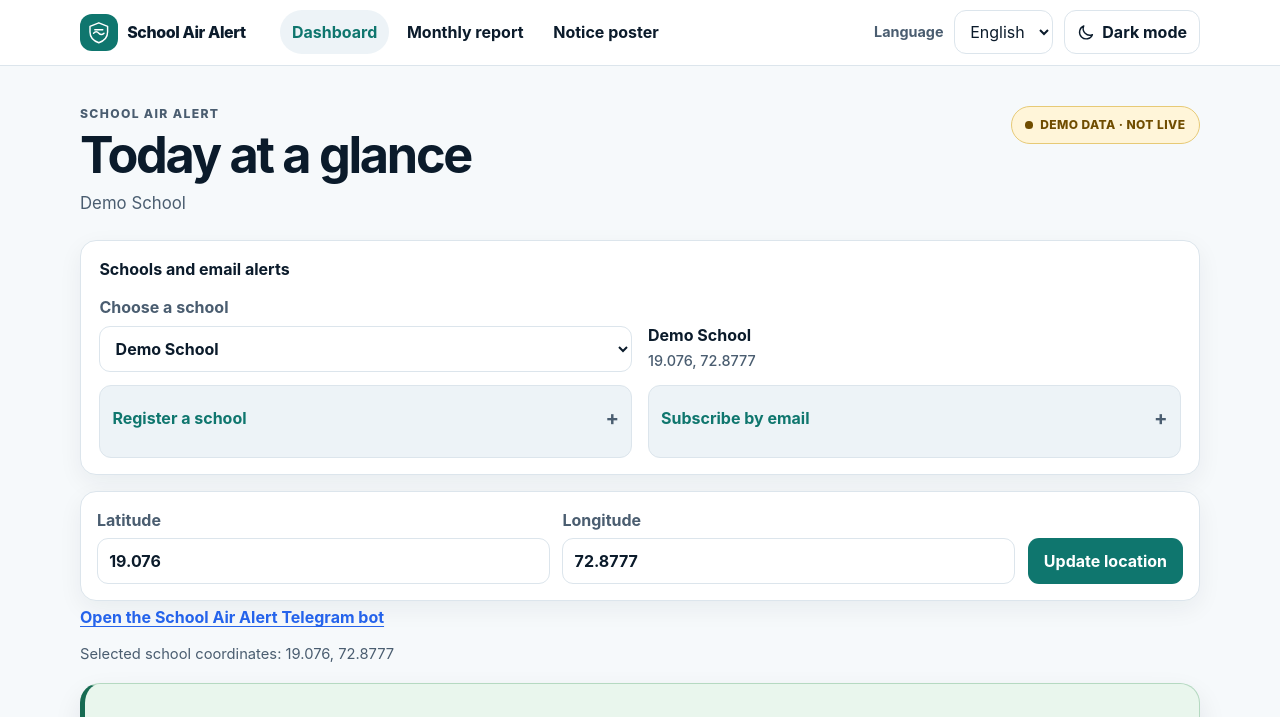
it: dashboard states › keeps the selected language while navigating between pages
Select "हिन्दी" in the dropdown labelled "Language". click: (1004, 32)
box: top-left (954, 10), bottom-right (1053, 54)
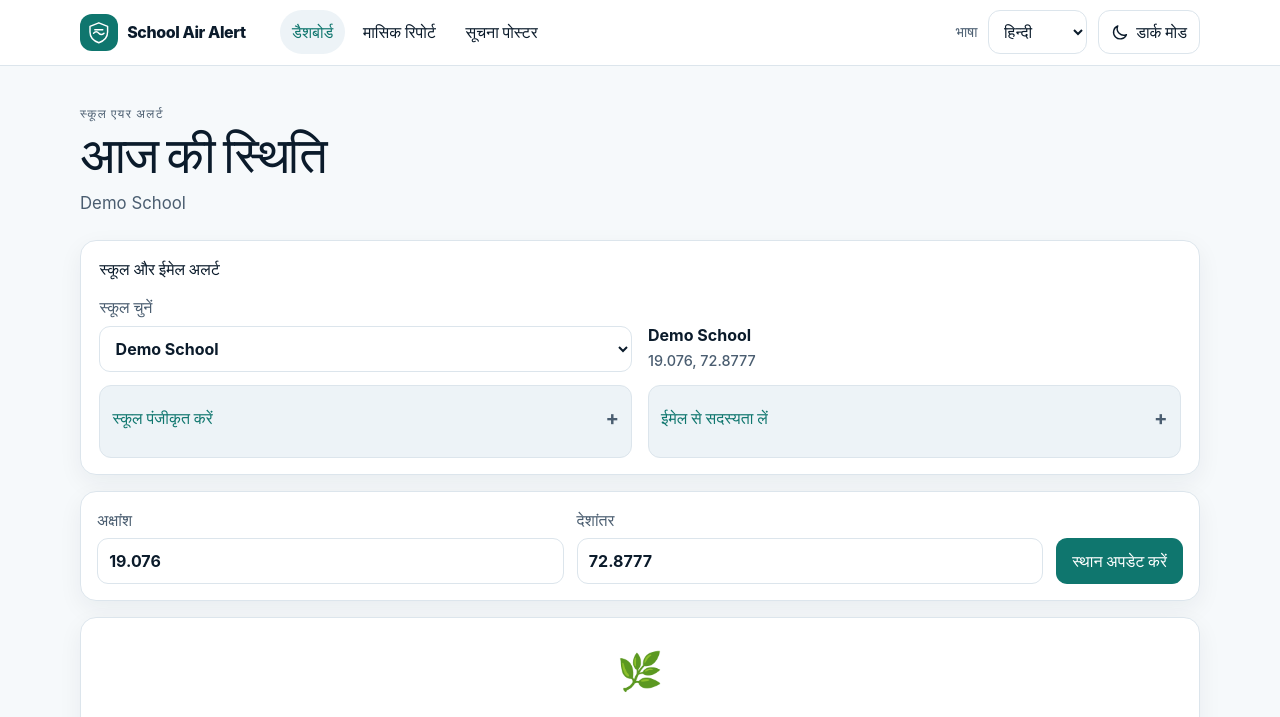
Click the link "मासिक रिपोर्ट". click: (399, 32)
box: top-left (363, 22), bottom-right (436, 42)
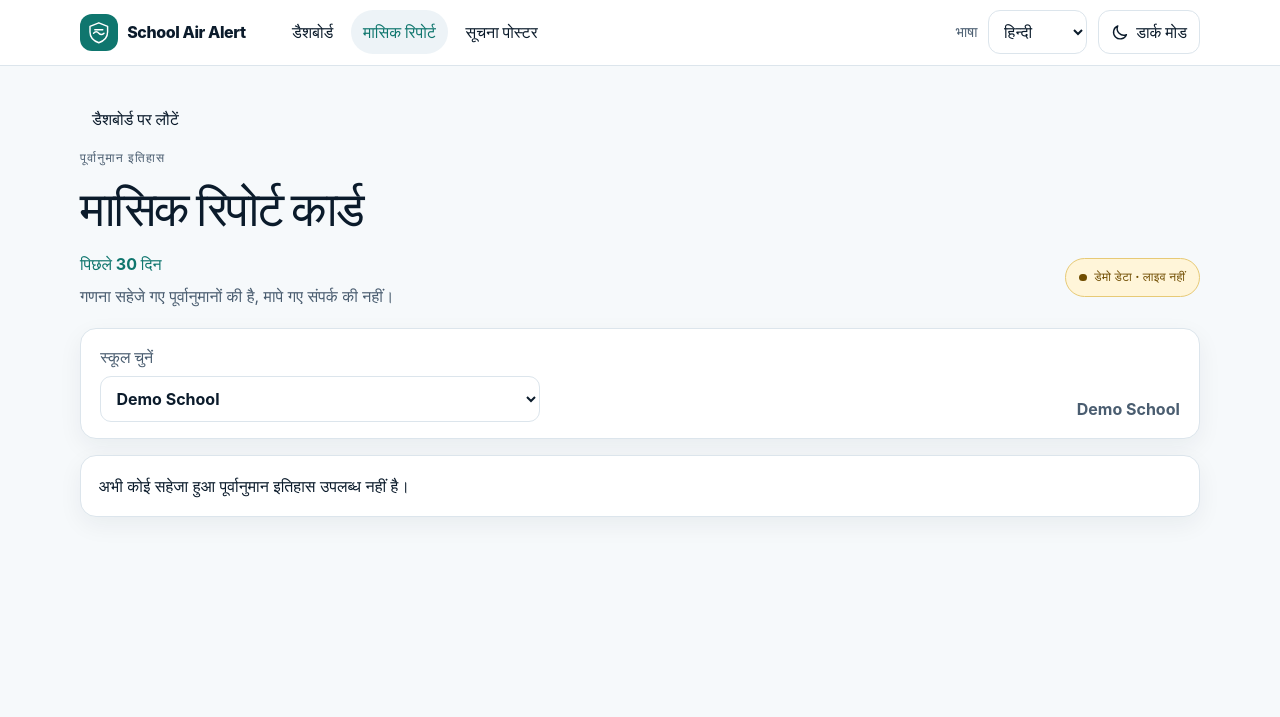
Now the heading "मासिक रिपोर्ट कार्ड" is shown, box top-left (80, 172), bottom-right (394, 246)
